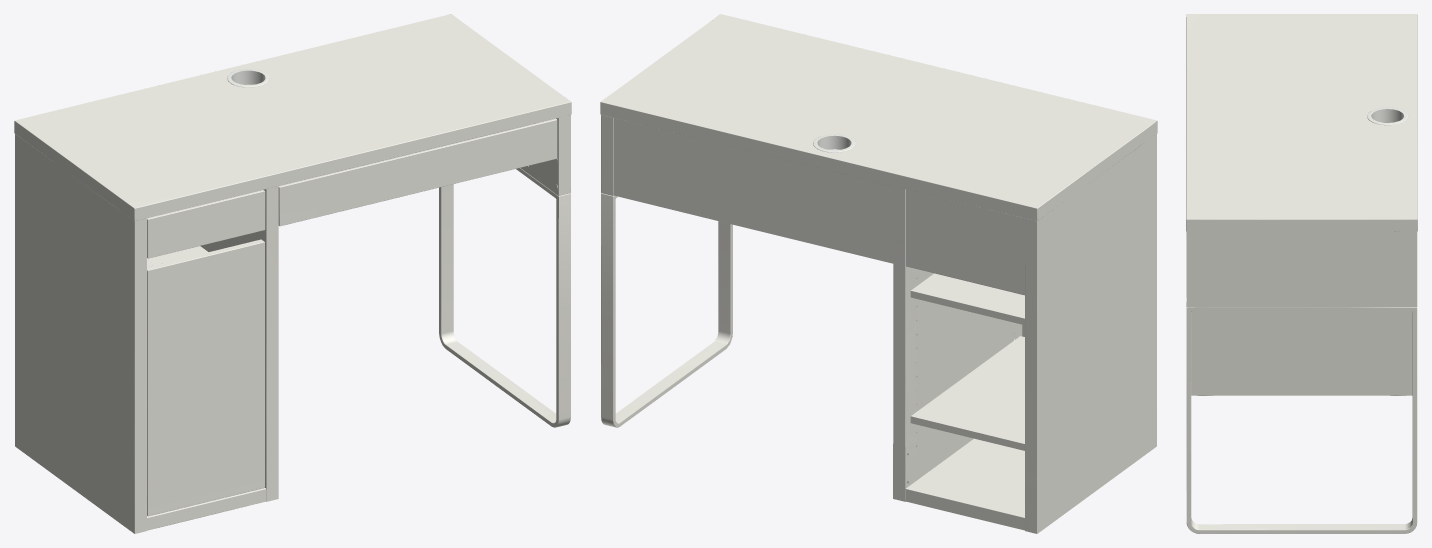
Rendered from 80213074-mini.glb.
The picture shows the model from 3 angles, left to right: view 1: azimuth 30°, elevation 25°; view 2: azimuth 150°, elevation 25°; view 3: azimuth 270°, elevation 25°; orthographic projection. The views are drawn at different scales.
Visible parts, largest first — view 1: model; view 2: model; view 3: model.
Boxes of the visible parts, bbox=[...] form: model: bbox=[14, 14, 571, 533]; model: bbox=[600, 14, 1157, 533]; model: bbox=[1186, 14, 1417, 533].
Size of the model in its own units: 1.05 by 0.7535 by 0.5.
1 material, 1 textured.
